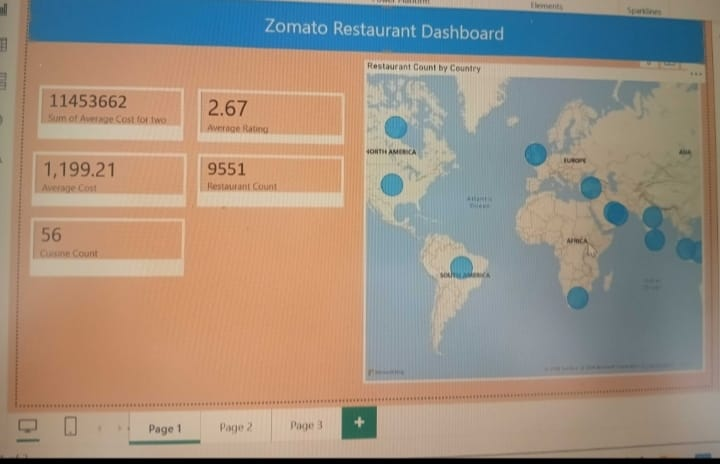

What the dashboard file says about the page in this screenshot:
{"tool":"powerbi","page":{"name":"Page 1","canvas":[1280,720],"ordinal":0},"visuals":[{"type":"multiRowCard","fields":{"Values":["KPIs.Average Cost"]},"box":[24.3,283.4,262.3,93.9],"z":0},{"type":"multiRowCard","fields":{"Values":["Sum(KPIs.Average Cost for two)"]},"box":[24.3,166.8,249.4,93.9],"z":1000},{"type":"multiRowCard","fields":{"Values":["KPIs.Average Rating"]},"box":[298.6,166.3,262.7,94.5],"z":2000},{"type":"map","fields":{"Category":["Country Master.Country"],"Size":["KPIs.Restaurant Count"]},"box":[597.5,103.6,668.7,589.4],"z":3000},{"type":"multiRowCard","fields":{"Values":["KPIs.Restaurant Count"]},"box":[299.6,283.4,260.7,93.9],"z":4000},{"type":"multiRowCard","fields":{"Values":["Zomato Africa.Cuisine Count"]},"box":[17.8,398.3,262.3,100.4],"z":5000},{"type":"shape","box":[0,0,1279.4,88.8],"z":6000}]}

Visuals, with their boxes on the page's 1280x720 design canvas (x1, y1, x2, y2). These are canvas units, not pixel positions in the 720x464 screenshot, which may show the page scaled, cropped or inside an application window:
multiRowCard - KPIs.Average Cost: x1=24 y1=283 x2=287 y2=377
multiRowCard - Sum(KPIs.Average Cost for two): x1=24 y1=167 x2=274 y2=261
multiRowCard - KPIs.Average Rating: x1=299 y1=166 x2=561 y2=261
map - Country Master.Country x KPIs.Restaurant Count: x1=598 y1=104 x2=1266 y2=693
multiRowCard - KPIs.Restaurant Count: x1=300 y1=283 x2=560 y2=377
multiRowCard - Zomato Africa.Cuisine Count: x1=18 y1=398 x2=280 y2=499
shape: x1=0 y1=0 x2=1279 y2=89
